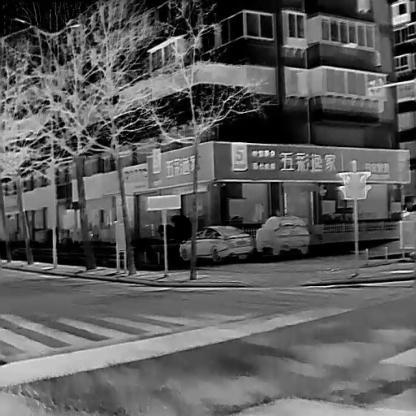car: (178, 224, 252, 260), (255, 215, 309, 254)
